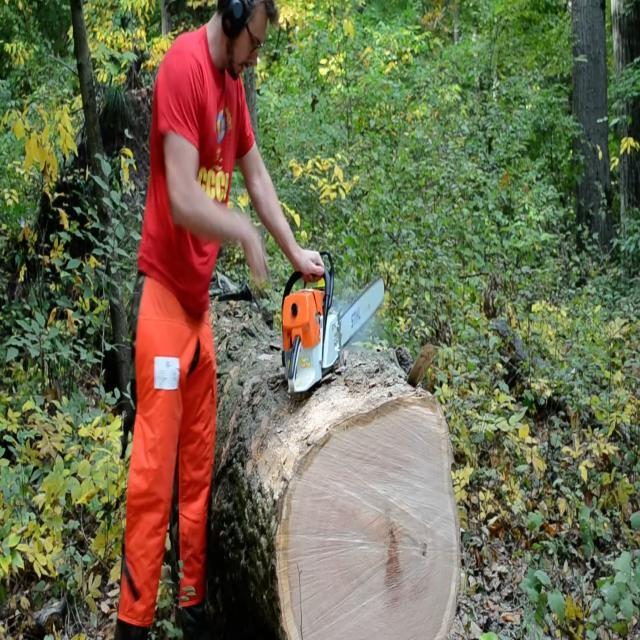Chainsaw: (275, 249, 393, 406)
